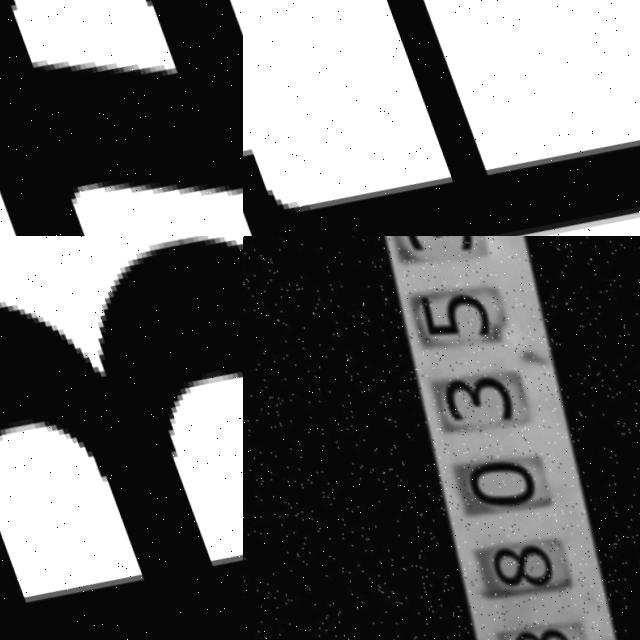0: (435, 430, 552, 530)
3: (415, 347, 528, 446), (377, 236, 492, 278)
5: (394, 266, 510, 364)
8: (458, 519, 565, 608), (479, 602, 585, 640)
B: (0, 236, 243, 640)
H: (243, 0, 640, 236)
